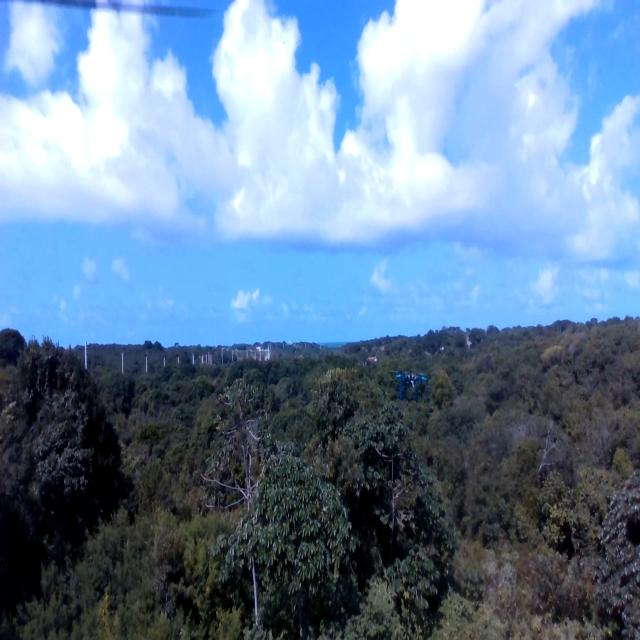-uav-: (386, 361, 433, 414)
